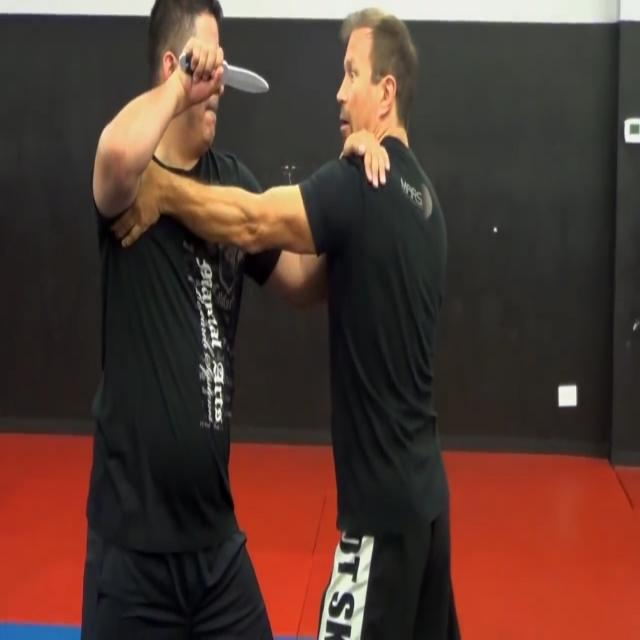knife: (222, 57, 274, 101)
